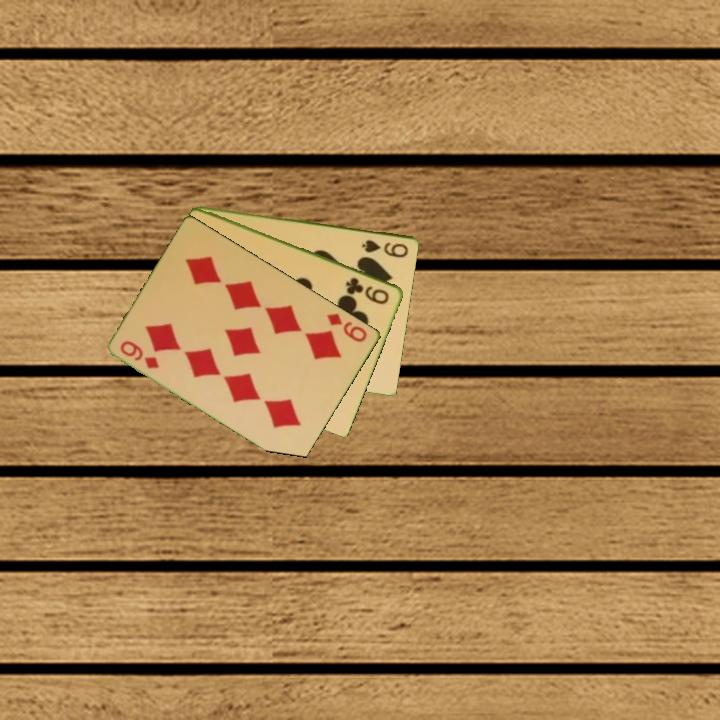9c: (342, 273, 393, 307)
9d: (323, 309, 370, 345), (117, 337, 163, 372)
9s: (358, 236, 411, 260)
